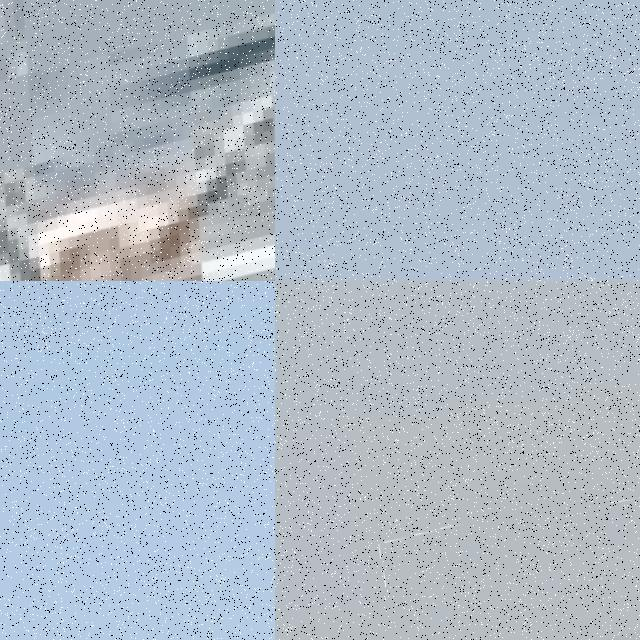0: (0, 0, 275, 281), (379, 494, 640, 640)
drone: (0, 281, 275, 640)
